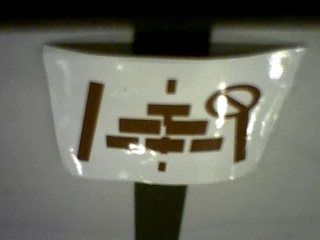Clearing_Zone: (75, 79, 262, 173)
